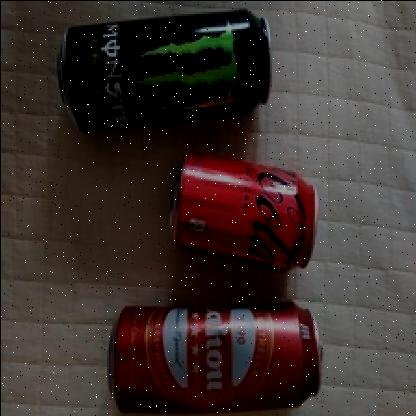Can: (57, 7, 272, 135), (109, 300, 320, 416), (169, 152, 318, 272)
